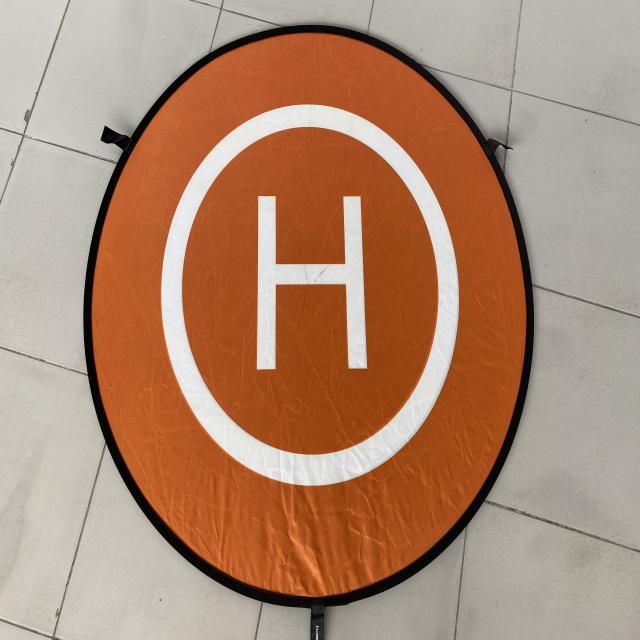helipad: (160, 101, 460, 488)
